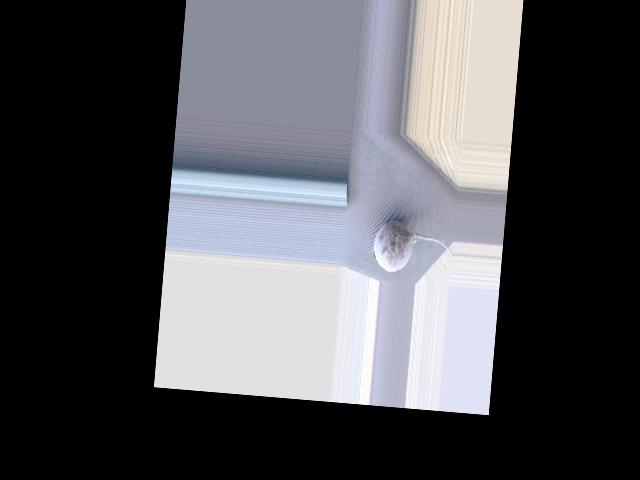beet: (371, 219, 454, 276)
